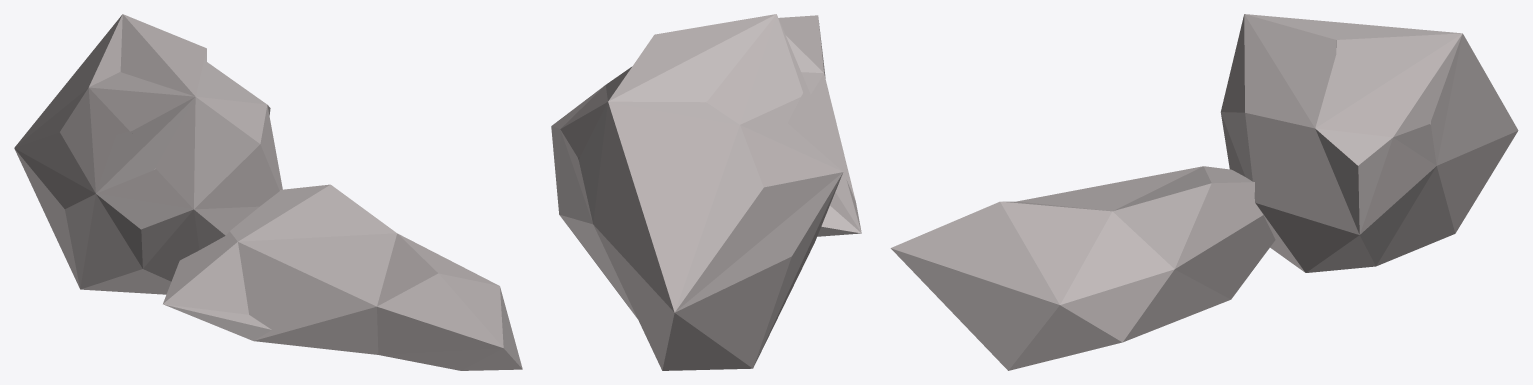
File: AnnaFelsenNeu.FBX
3 renders of one model, left to right at view 1: azimuth 30°, elevation 25°; view 2: azimuth 150°, elevation 25°; view 3: azimuth 270°, elevation 25°, orthographic. The views are drawn at different scales.
Parts seen in each view (by area): view 1: GeoSphere001; view 2: GeoSphere001; view 3: GeoSphere001.
Boxes of the visible parts, <box> form: GeoSphere001: <box>14,14,522,370</box>; GeoSphere001: <box>551,14,861,370</box>; GeoSphere001: <box>890,14,1518,370</box>.
Bounding box in the file's own units: 51.52 × 40.97 × 92.66.
